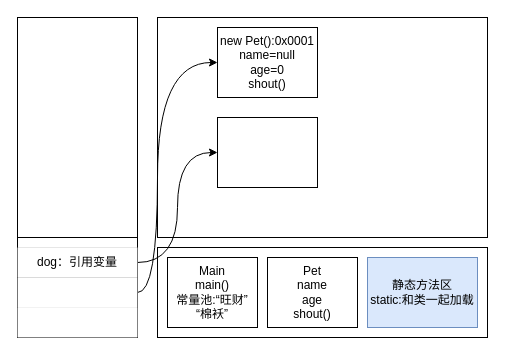
This 505x355 diagram has some shape labels left out. Here are the shapes that lost their labels. From the top down, the centre of each, then its label:
the point at 267,152: new Pet():0x0002 name=null age=0 shout()
the point at 77,292: cat：引用变量
the point at 77,322: main()
